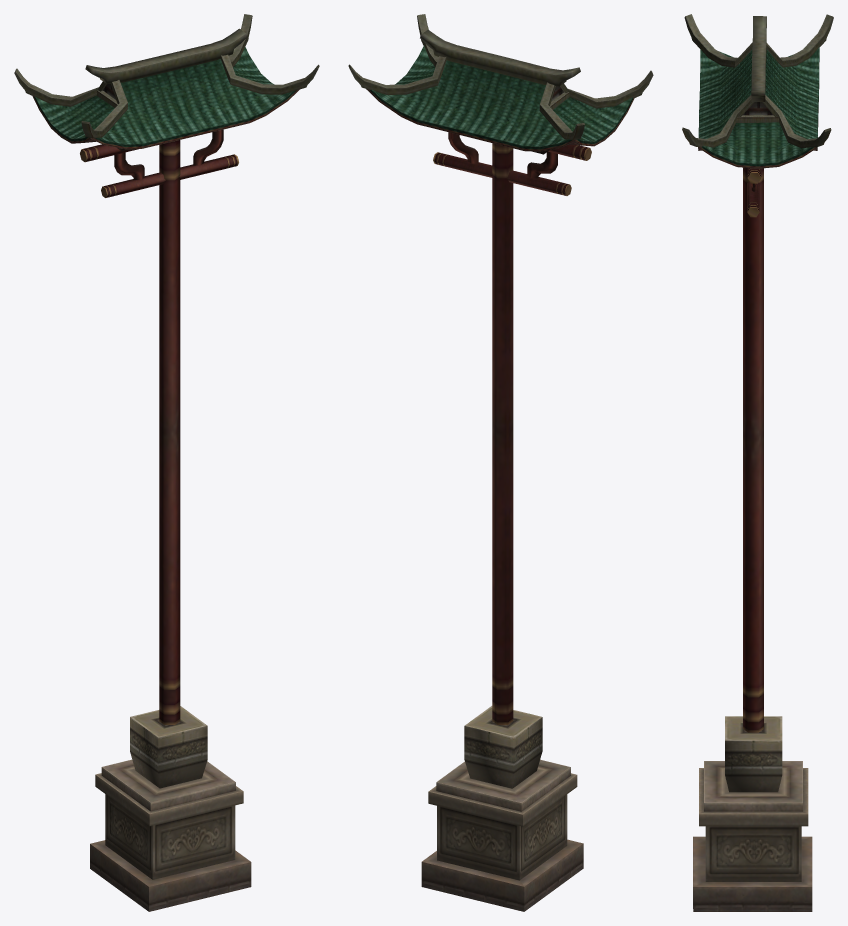
The model's file is ZW_jxalyld.FBX.
The picture shows the model from 3 angles, left to right: view 1: azimuth 30°, elevation 25°; view 2: azimuth 150°, elevation 25°; view 3: azimuth 270°, elevation 25°; orthographic projection.
Visible parts, largest first — view 1: ZW_jxalyld; view 2: ZW_jxalyld; view 3: ZW_jxalyld.
Boxes of the visible parts, x1,y1,x2,y2 form: ZW_jxalyld: (14, 14, 319, 911); ZW_jxalyld: (348, 14, 653, 911); ZW_jxalyld: (682, 14, 833, 911).
Size of the model in its own units: 361 by 1200 by 198.
